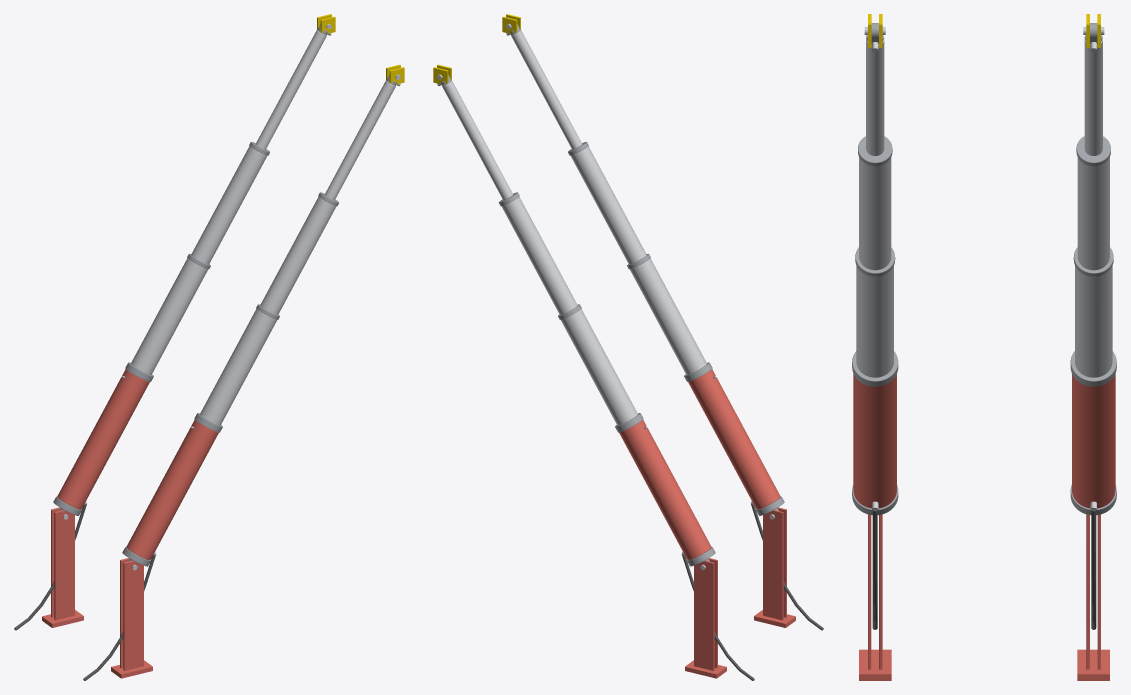
File: sk575_izaje.glb
3 views of the same model, side by side, from view 1: azimuth 30°, elevation 25°; view 2: azimuth 150°, elevation 25°; view 3: azimuth 270°, elevation 25° (orthographic). The views are drawn at different scales.
Parts seen in each view (by area): view 1: sk575_izaje_orejas_carrier_rojo, sk575_izaje_cil1_camisa_rojo, sk575_izaje_cil2_camisa_rojo, sk575_izaje_cil1_etapa1_acero, sk575_izaje_cil2_etapa1_acero, sk575_izaje_cil1_etapa2_acero, sk575_izaje_cil2_etapa2_acero, sk575_izaje_cil1_vastago_acero, sk575_izaje_cil2_vastago_acero, sk575_izaje_orejas_mastil_amarillo; view 2: sk575_izaje_orejas_carrier_rojo, sk575_izaje_cil2_camisa_rojo, sk575_izaje_cil1_camisa_rojo, sk575_izaje_cil2_etapa1_acero, sk575_izaje_cil1_etapa1_acero, sk575_izaje_cil1_etapa2_acero, sk575_izaje_cil2_etapa2_acero, sk575_izaje_cil2_vastago_acero, sk575_izaje_cil1_vastago_acero, sk575_izaje_orejas_mastil_amarillo; view 3: sk575_izaje_cil1_camisa_rojo, sk575_izaje_cil2_camisa_rojo, sk575_izaje_orejas_carrier_rojo, sk575_izaje_cil2_etapa1_acero, sk575_izaje_cil1_etapa1_acero, sk575_izaje_cil1_etapa2_acero, sk575_izaje_cil2_etapa2_acero, sk575_izaje_cil1_vastago_acero, sk575_izaje_cil2_vastago_acero, sk575_izaje_cil1_camisa_acero_oscuro, sk575_izaje_cil2_camisa_acero_oscuro, sk575_izaje_cil1_camisa_goma (+4 smaller).
Part boxes in pixels (x1=…): sk575_izaje_orejas_carrier_rojo: x1=42, y1=507, x2=152, y2=678; sk575_izaje_cil1_camisa_rojo: x1=126, y1=420, x2=218, y2=560; sk575_izaje_cil2_camisa_rojo: x1=57, y1=369, x2=149, y2=509; sk575_izaje_cil1_etapa1_acero: x1=200, y1=309, x2=276, y2=425; sk575_izaje_cil2_etapa1_acero: x1=131, y1=258, x2=207, y2=374; sk575_izaje_cil1_etapa2_acero: x1=260, y1=197, x2=336, y2=314; sk575_izaje_cil2_etapa2_acero: x1=191, y1=146, x2=266, y2=264; sk575_izaje_cil1_vastago_acero: x1=324, y1=74, x2=400, y2=200; sk575_izaje_cil2_vastago_acero: x1=255, y1=24, x2=331, y2=149; sk575_izaje_orejas_mastil_amarillo: x1=317, y1=14, x2=404, y2=84; sk575_izaje_orejas_carrier_rojo: x1=685, y1=507, x2=795, y2=678; sk575_izaje_cil2_camisa_rojo: x1=619, y1=420, x2=711, y2=560; sk575_izaje_cil1_camisa_rojo: x1=688, y1=369, x2=780, y2=509; sk575_izaje_cil2_etapa1_acero: x1=561, y1=309, x2=637, y2=425; sk575_izaje_cil1_etapa1_acero: x1=630, y1=258, x2=706, y2=374; sk575_izaje_cil1_etapa2_acero: x1=571, y1=146, x2=646, y2=264; sk575_izaje_cil2_etapa2_acero: x1=501, y1=197, x2=577, y2=314; sk575_izaje_cil2_vastago_acero: x1=437, y1=74, x2=513, y2=200; sk575_izaje_cil1_vastago_acero: x1=506, y1=24, x2=582, y2=149; sk575_izaje_orejas_mastil_amarillo: x1=433, y1=14, x2=520, y2=84; sk575_izaje_cil1_camisa_rojo: x1=853, y1=374, x2=896, y2=508; sk575_izaje_cil2_camisa_rojo: x1=1072, y1=374, x2=1115, y2=508; sk575_izaje_orejas_carrier_rojo: x1=859, y1=514, x2=1109, y2=680; sk575_izaje_cil2_etapa1_acero: x1=1075, y1=266, x2=1112, y2=377; sk575_izaje_cil1_etapa1_acero: x1=856, y1=266, x2=893, y2=377; sk575_izaje_cil1_etapa2_acero: x1=859, y1=157, x2=891, y2=270; sk575_izaje_cil2_etapa2_acero: x1=1077, y1=157, x2=1109, y2=270; sk575_izaje_cil1_vastago_acero: x1=864, y1=27, x2=885, y2=155; sk575_izaje_cil2_vastago_acero: x1=1083, y1=27, x2=1104, y2=155; sk575_izaje_cil1_camisa_acero_oscuro: x1=852, y1=351, x2=898, y2=515; sk575_izaje_cil2_camisa_acero_oscuro: x1=1070, y1=351, x2=1116, y2=515; sk575_izaje_cil1_camisa_goma: x1=872, y1=509, x2=877, y2=629.
Bounding box in the file's own units: 3.2 × 5.17 × 1.45.
